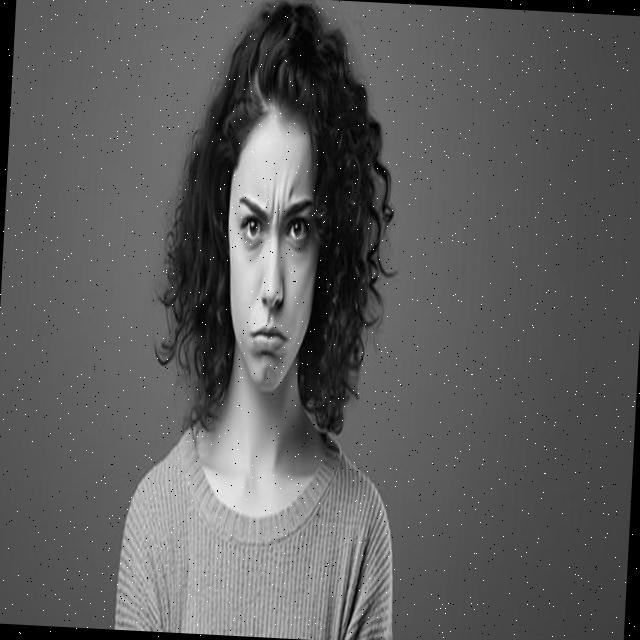Angry: (220, 121, 326, 392)
